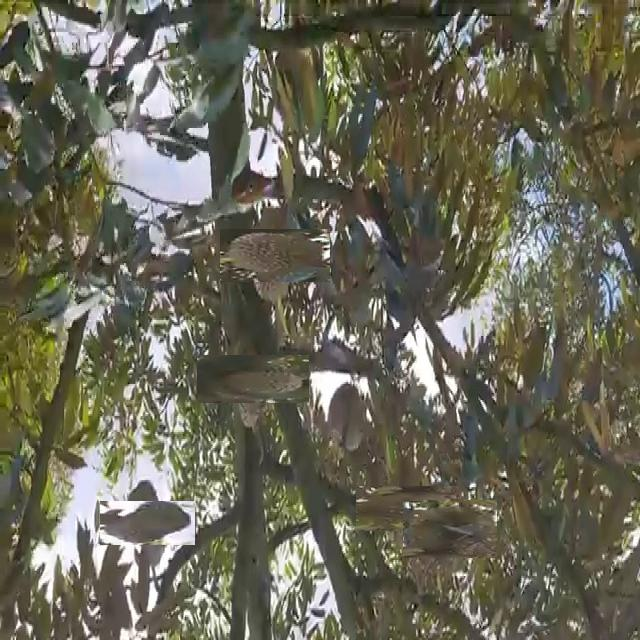durian: (234, 215, 316, 296), (213, 338, 293, 419), (411, 490, 488, 567), (370, 471, 445, 545), (113, 488, 182, 559), (325, 366, 368, 460)
